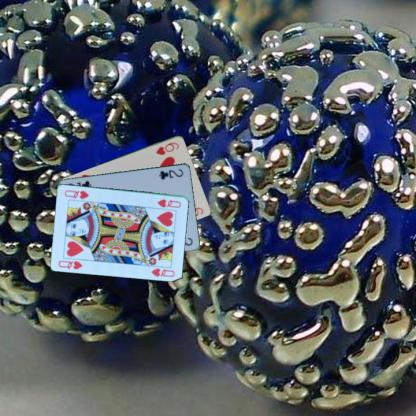2c: (156, 166, 184, 180)
6h: (153, 139, 180, 156)
Qh: (56, 258, 84, 270), (155, 196, 182, 208)
